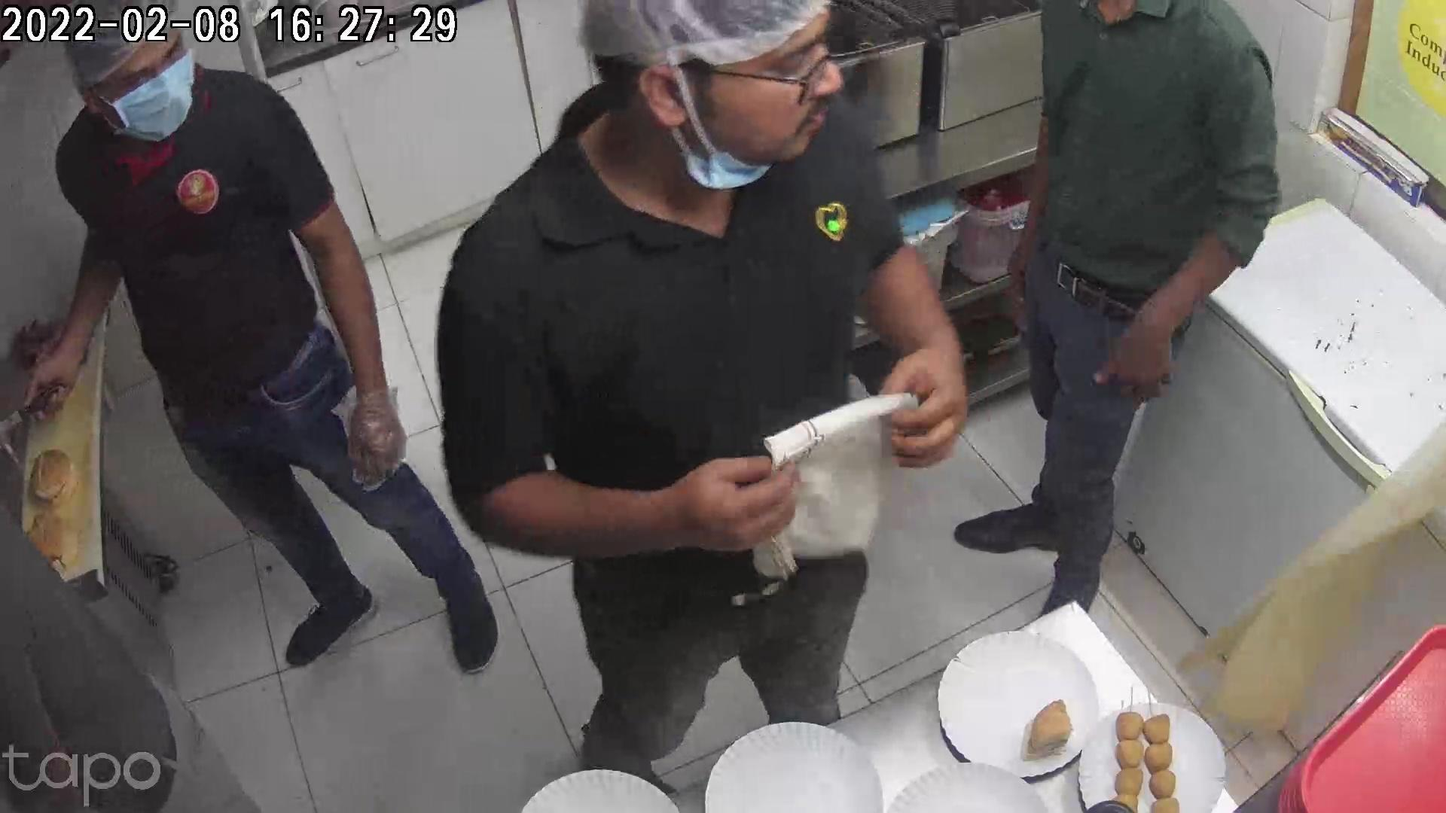gloves: (353, 365, 407, 488)
